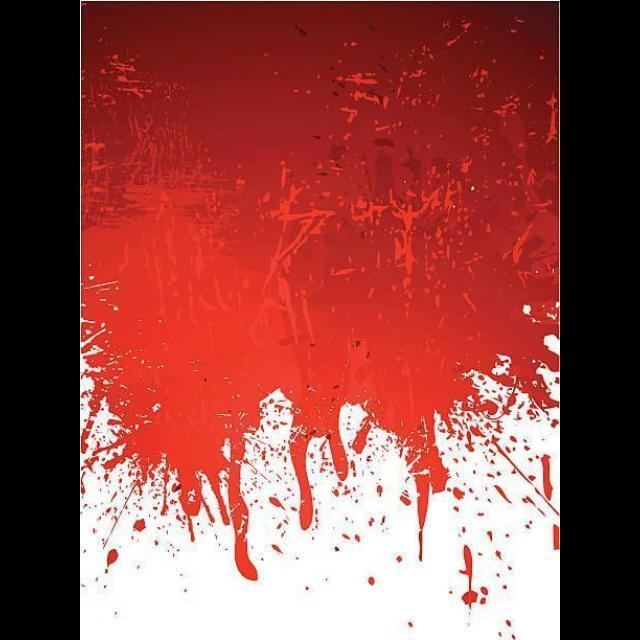blood: (82, 2, 560, 639)
